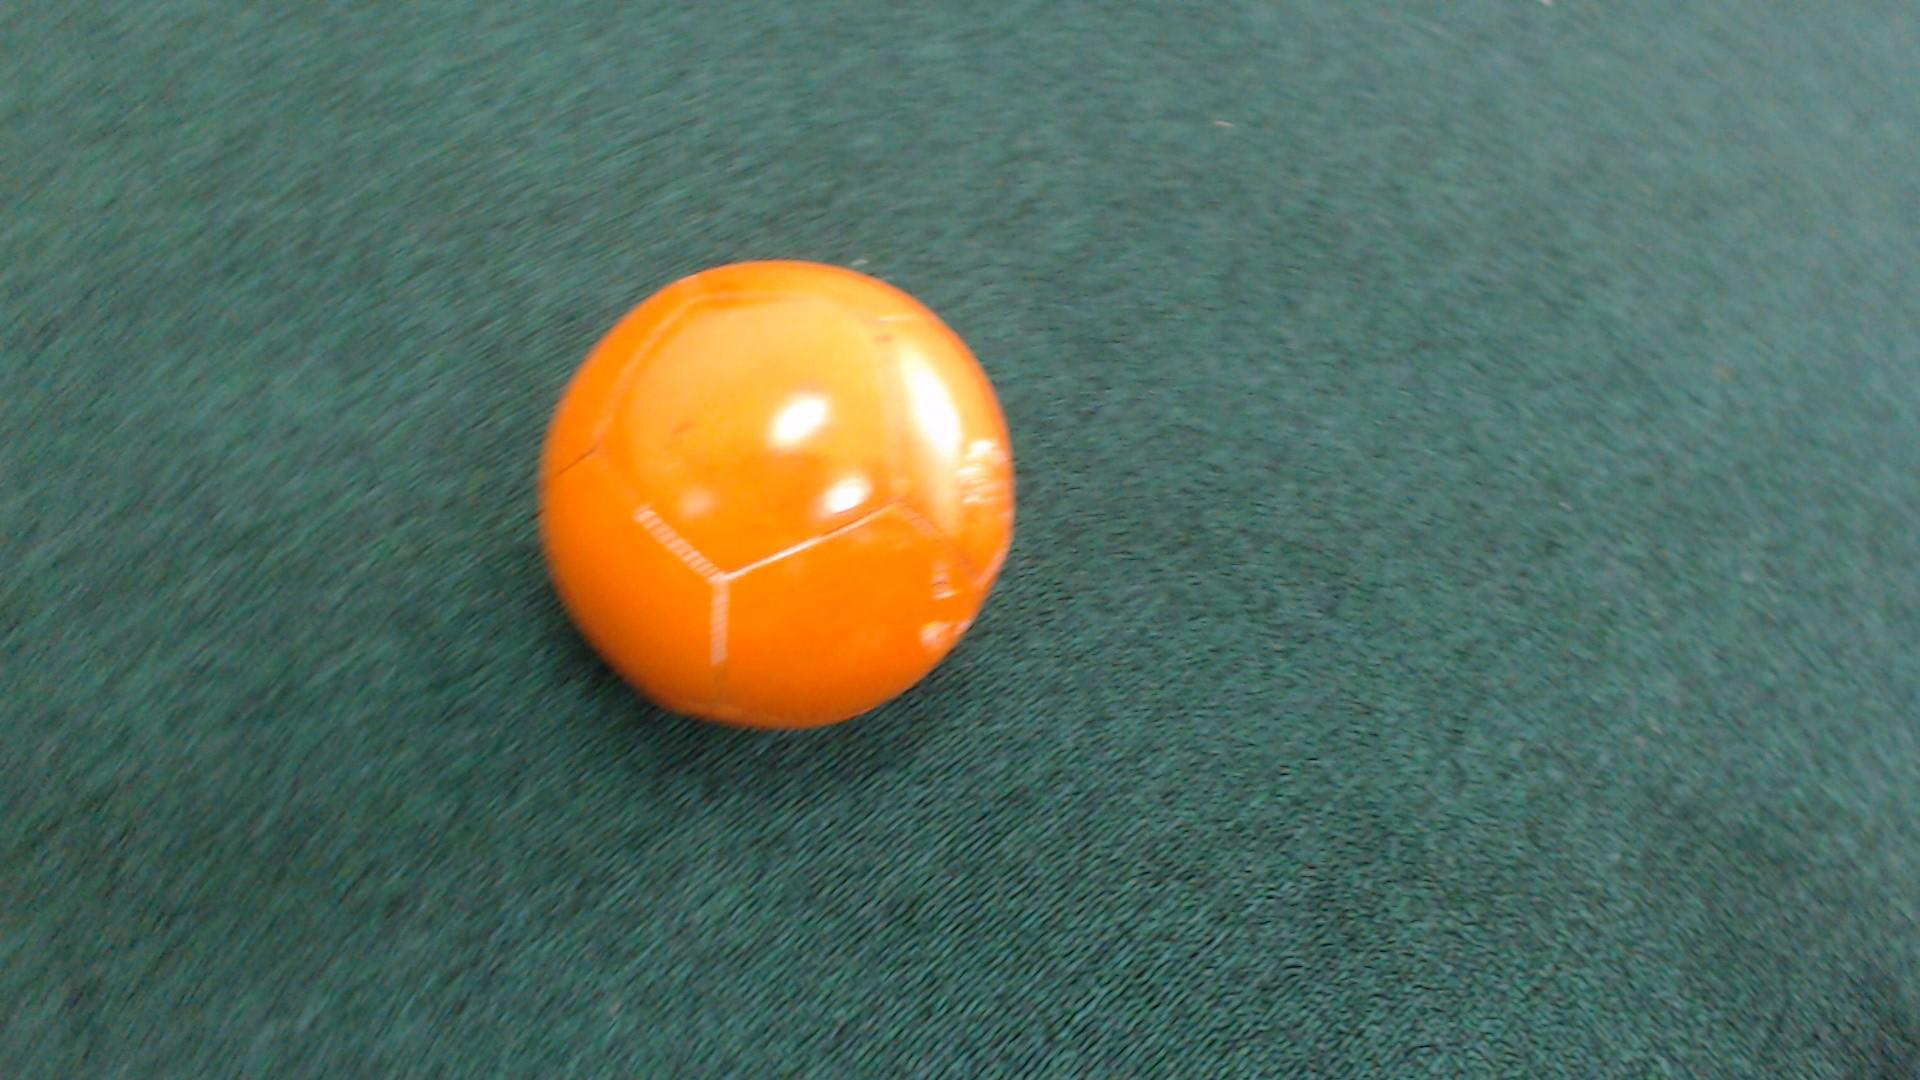bola: (488, 225, 1092, 754)
